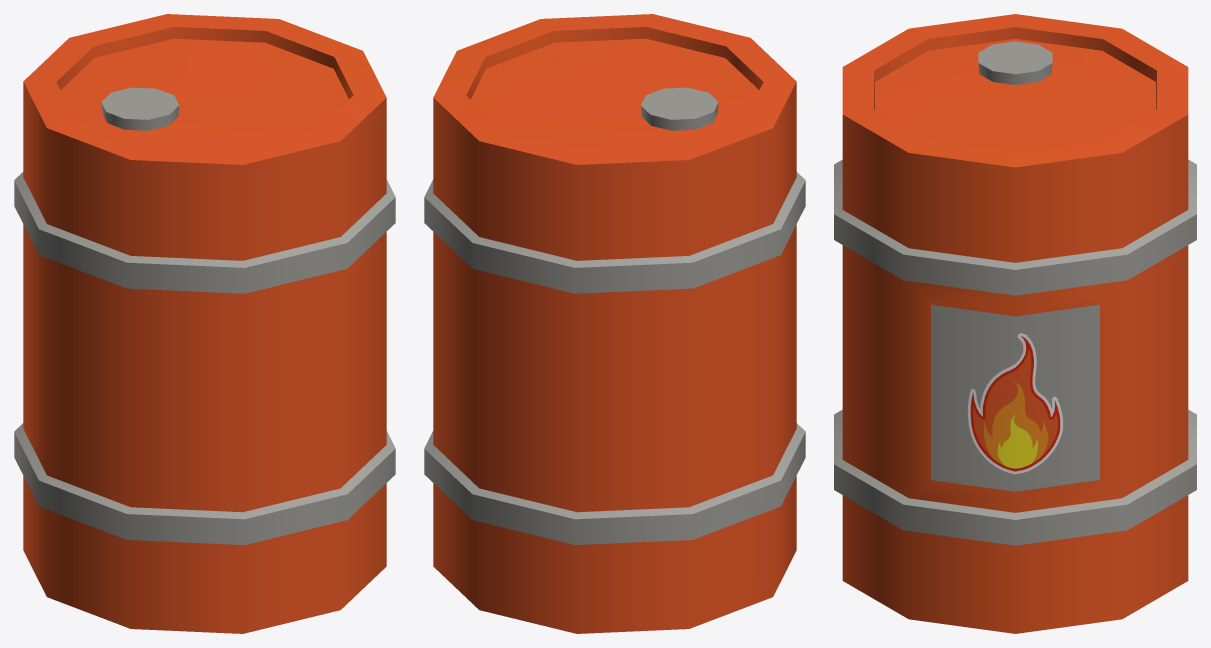
The model's file is BarelleDestruction.fbx.
3 views of the same model, side by side, from view 1: azimuth 30°, elevation 25°; view 2: azimuth 150°, elevation 25°; view 3: azimuth 270°, elevation 25° (orthographic).
Visible parts, largest first — view 1: Barelle; view 2: Barelle; view 3: Barelle.
Part boxes in pixels (bbox=[...]): Barelle: bbox=[14, 14, 395, 633]; Barelle: bbox=[424, 14, 805, 633]; Barelle: bbox=[834, 14, 1196, 633].
Bounding box in the file's own units: 133 × 180 × 126.
